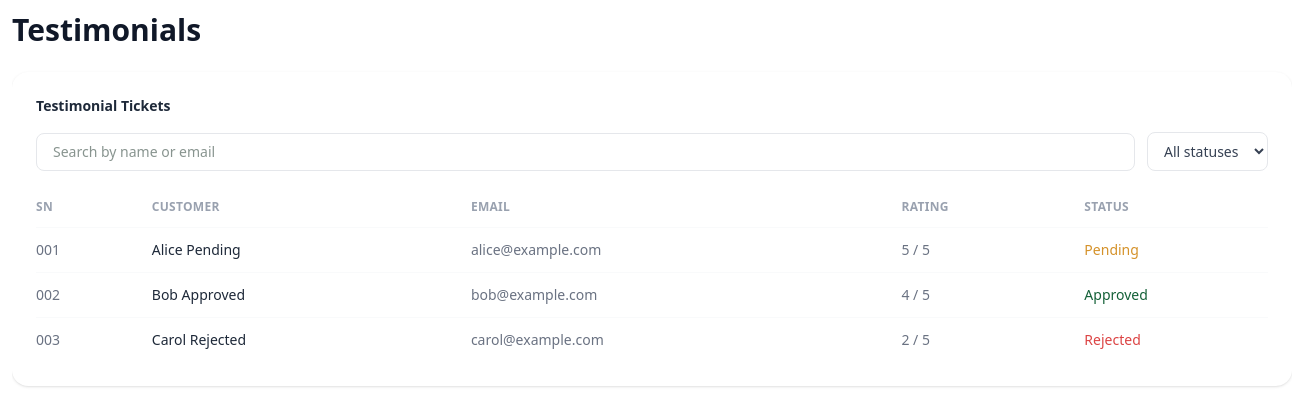
it: AdminTestimonialsClient › filters by search text across name and email
Type "bob@example.com" into the search field with placeholder "Search by name or email" at (586, 152), box 36,132 -> 1135,170
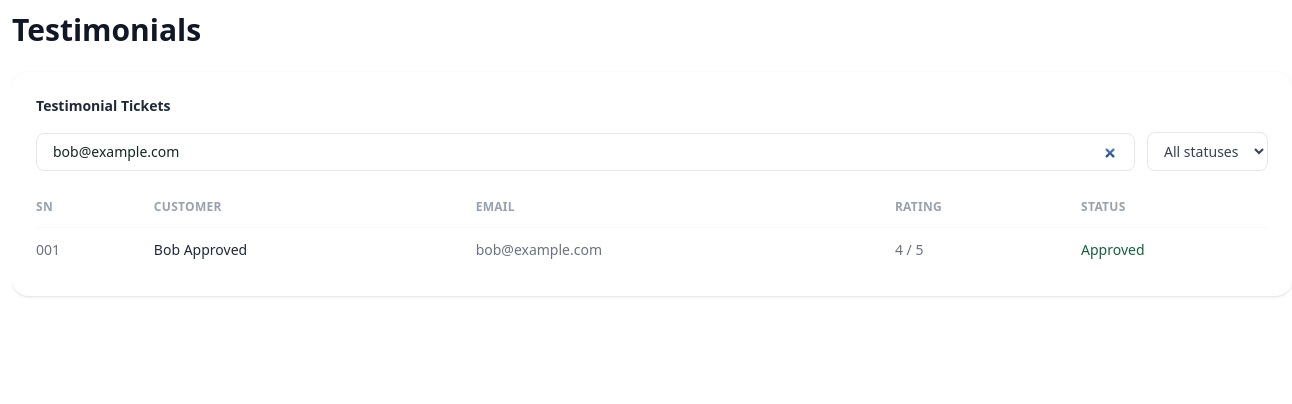
expect the text "Bob Approved" is shown: met, box 154,228 -> 476,272
expect the text "Alice Pending" is gone: met
expect the text "Carol Rejected" is gone: met
